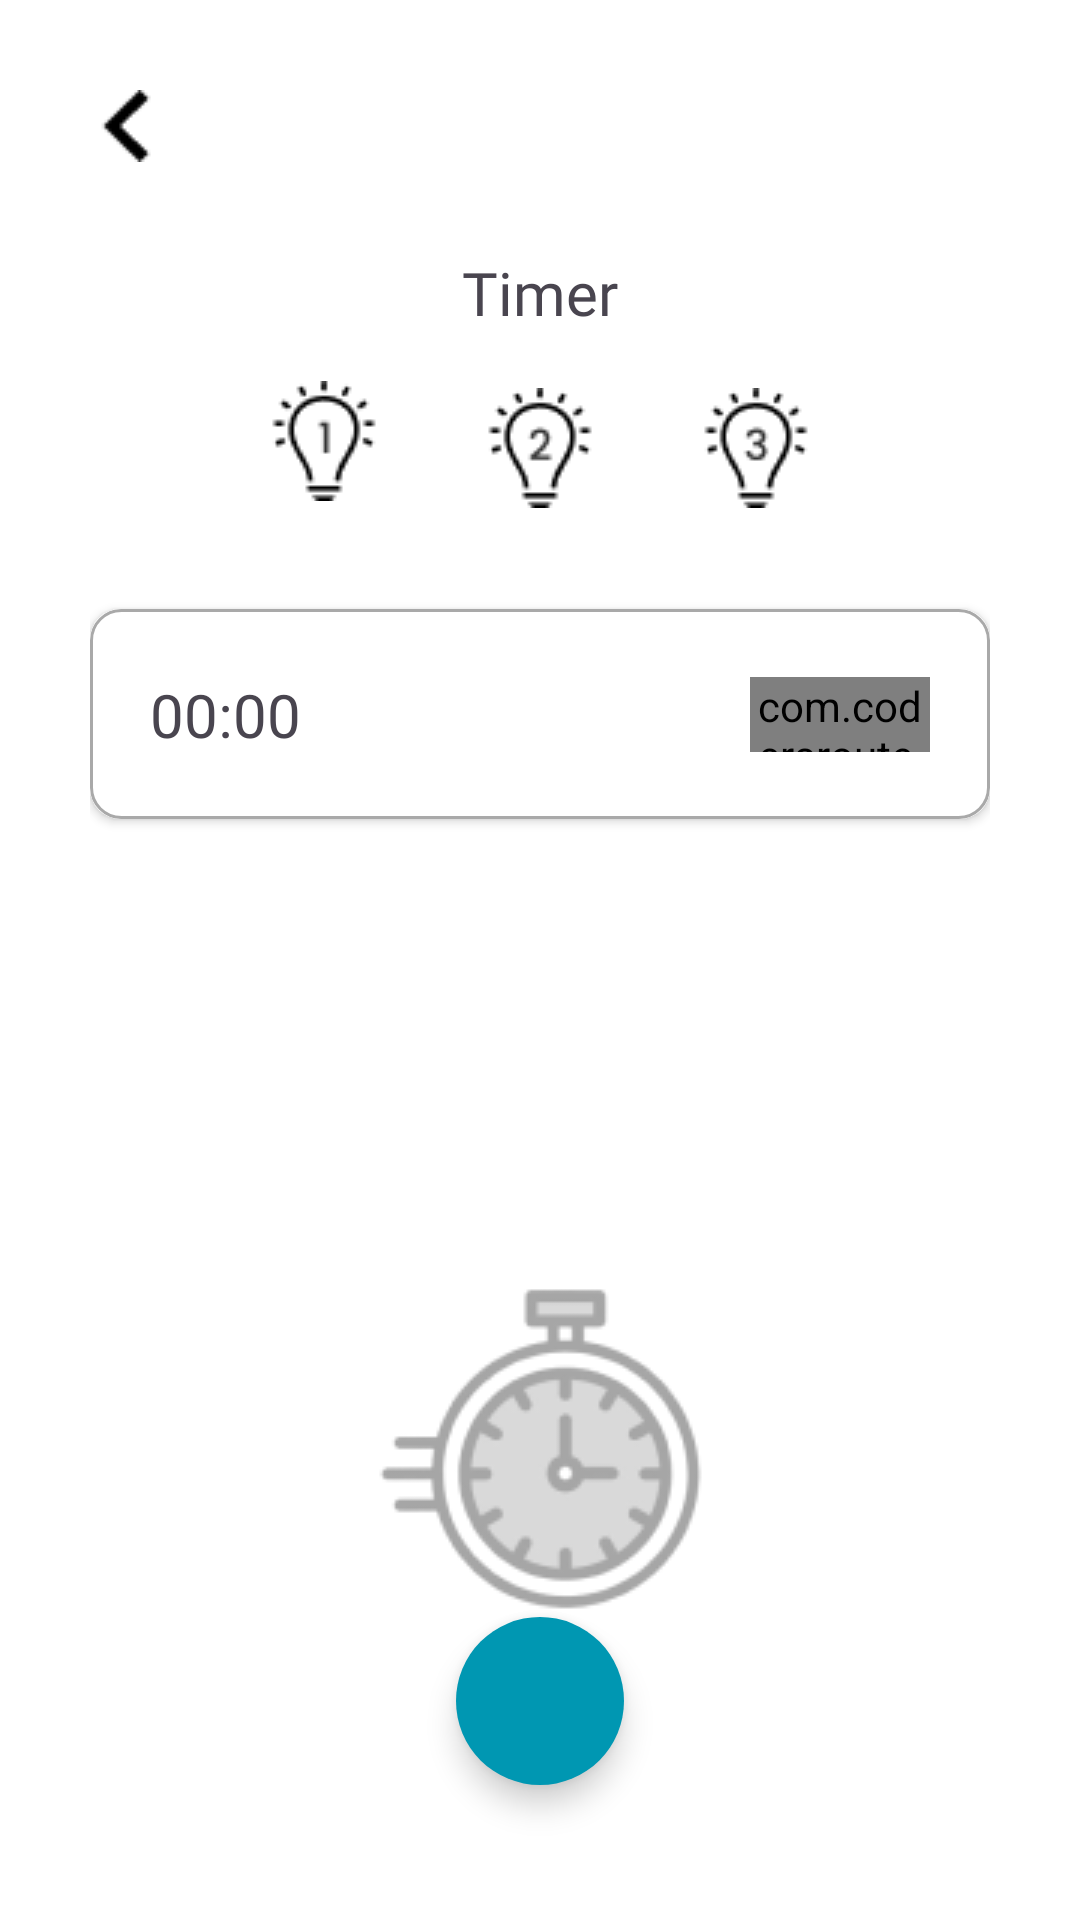

Named icons in this screenshot (1080×1920) and their bounding boxes, [left=x1, top=y1, right=x2, bottom=y2]:
back: [left=103, top=90, right=150, bottom=162]
no timer: [left=381, top=1289, right=700, bottom=1609]
